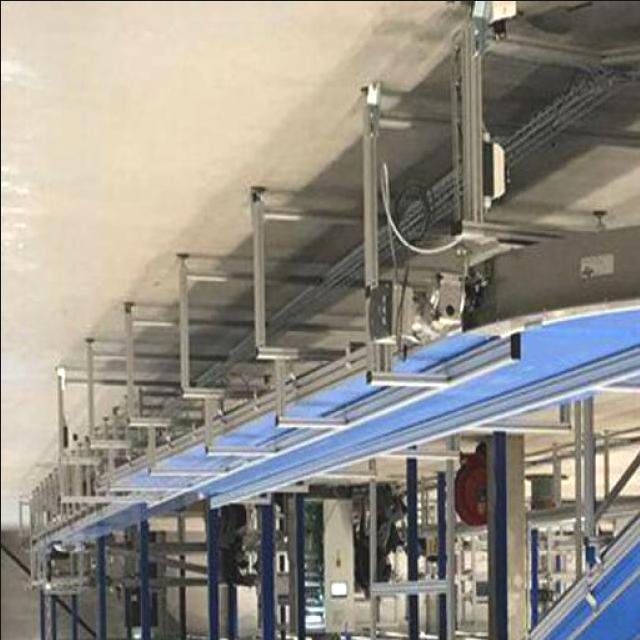conveyor: (49, 305, 640, 549)
